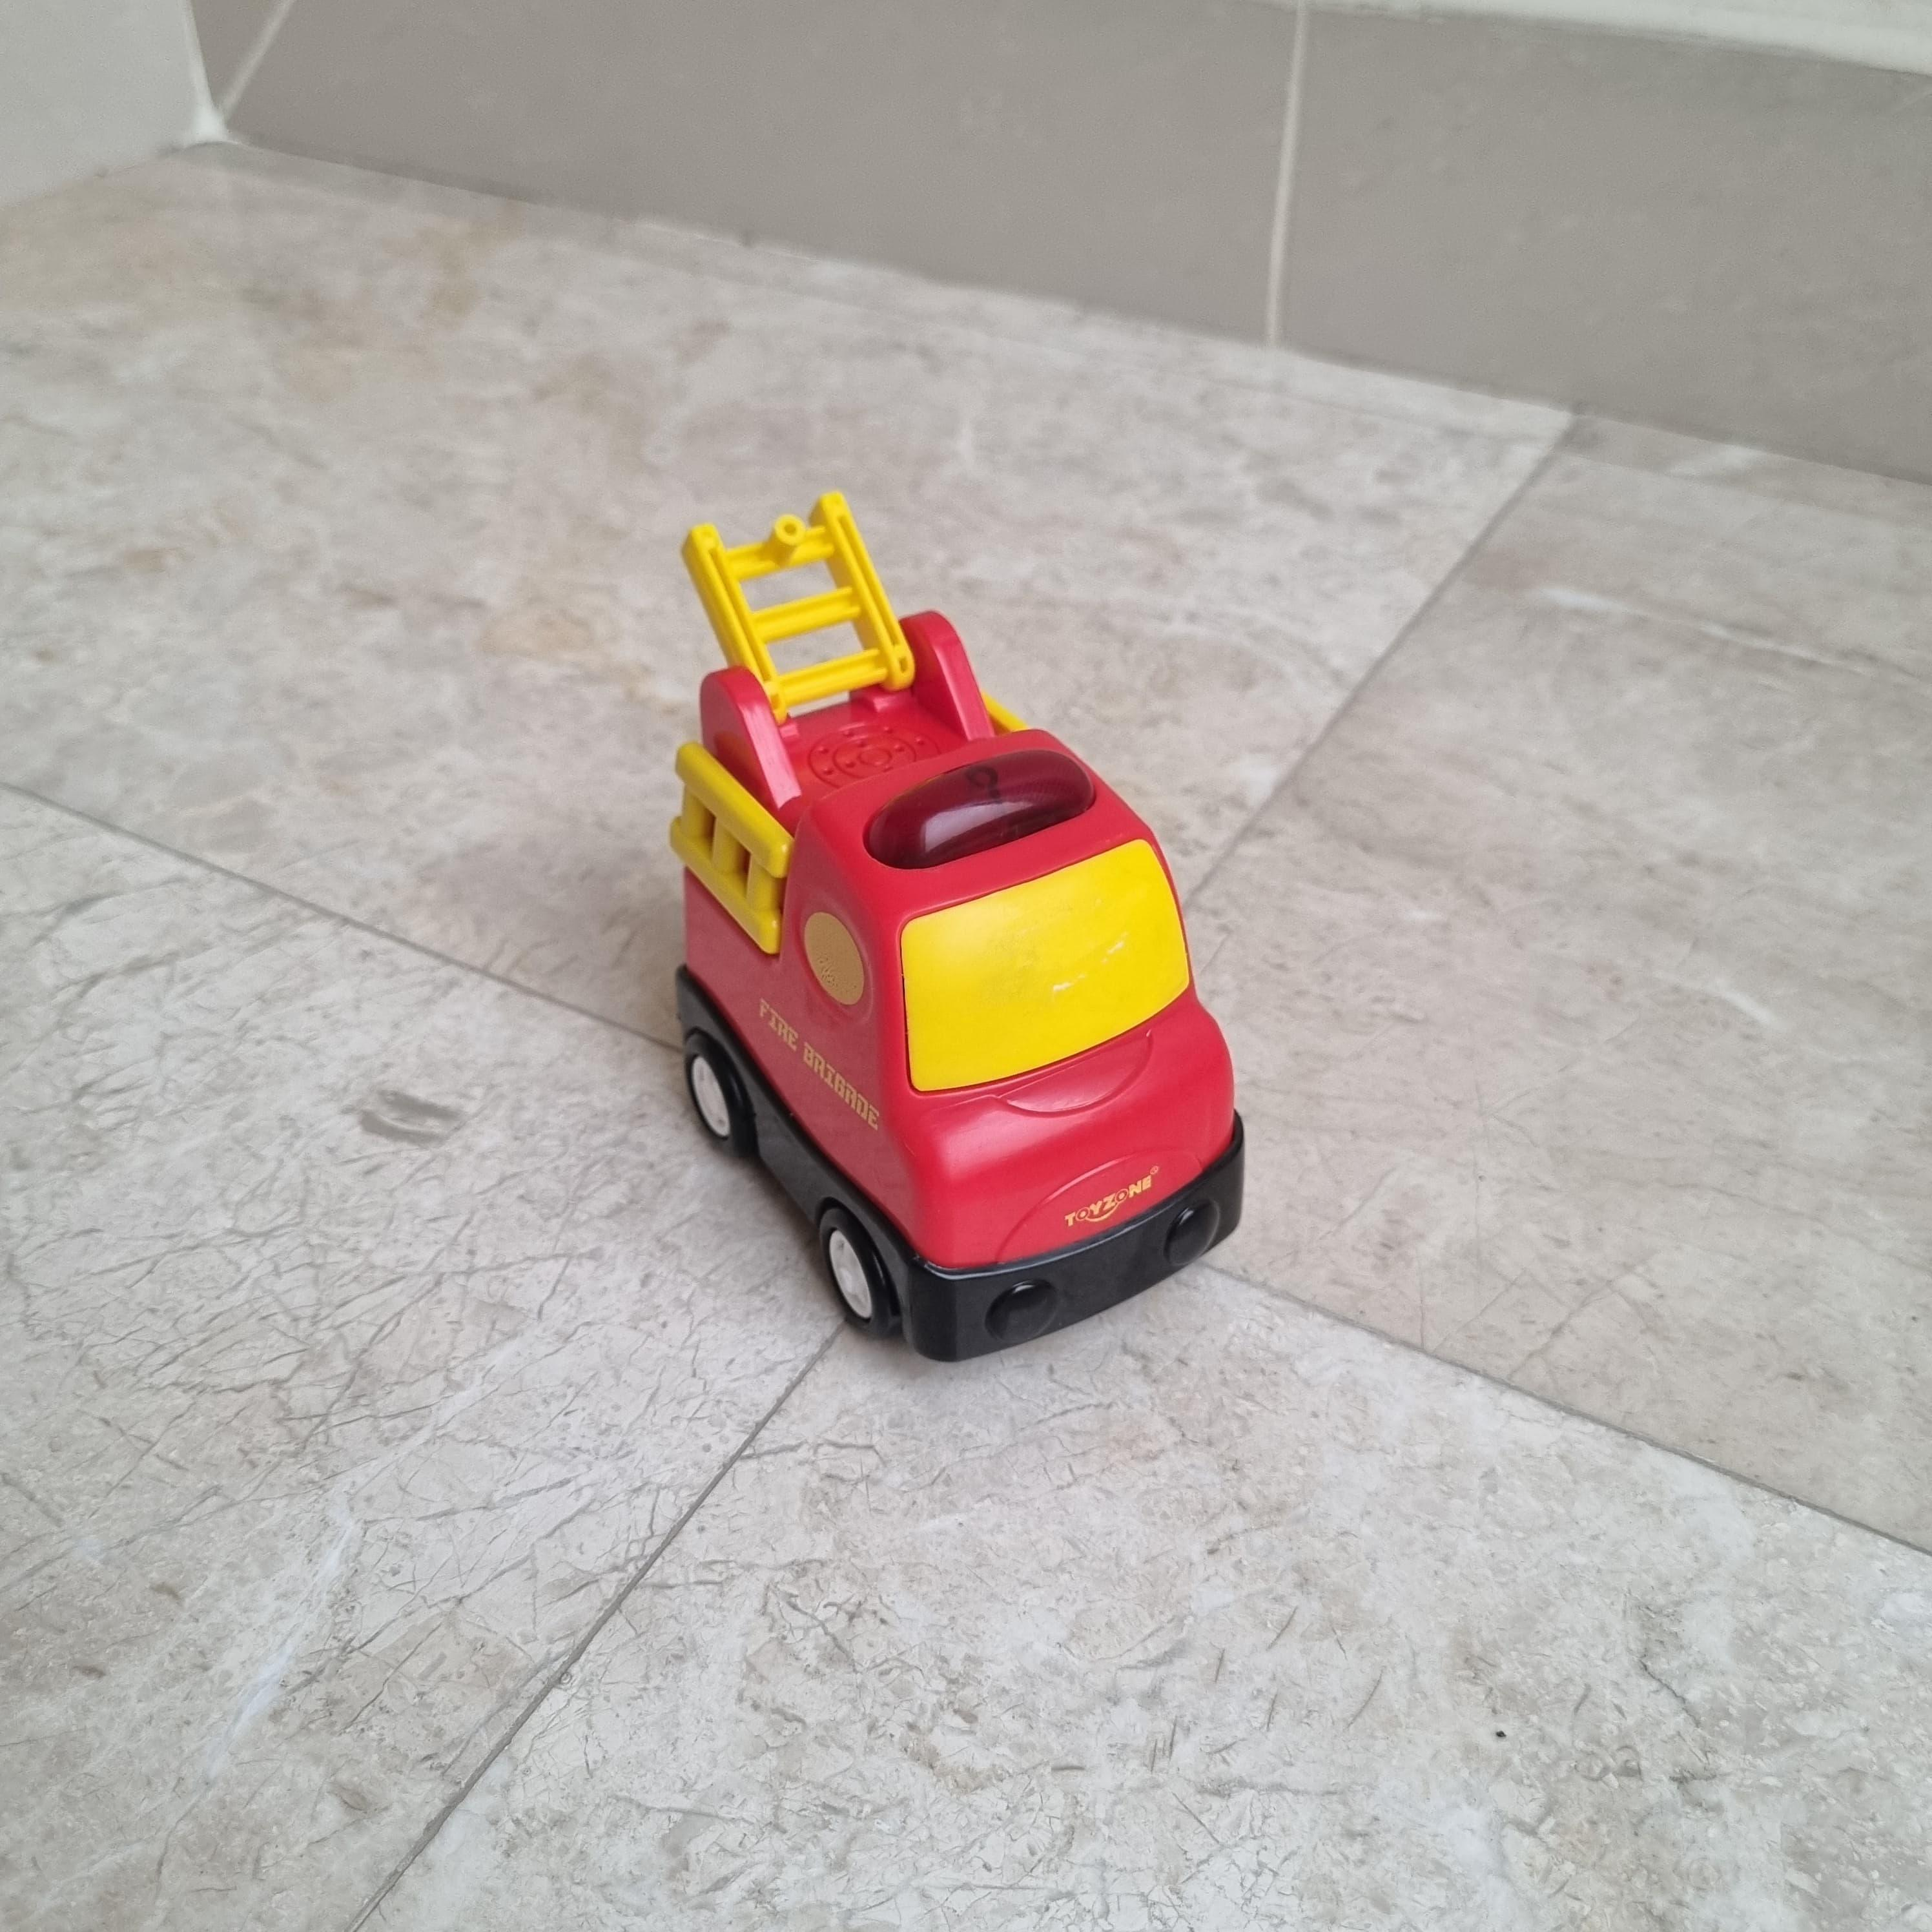firetruck_off: (676, 494, 1246, 1368)
